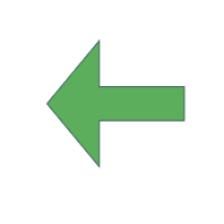left: (43, 39, 186, 171)
